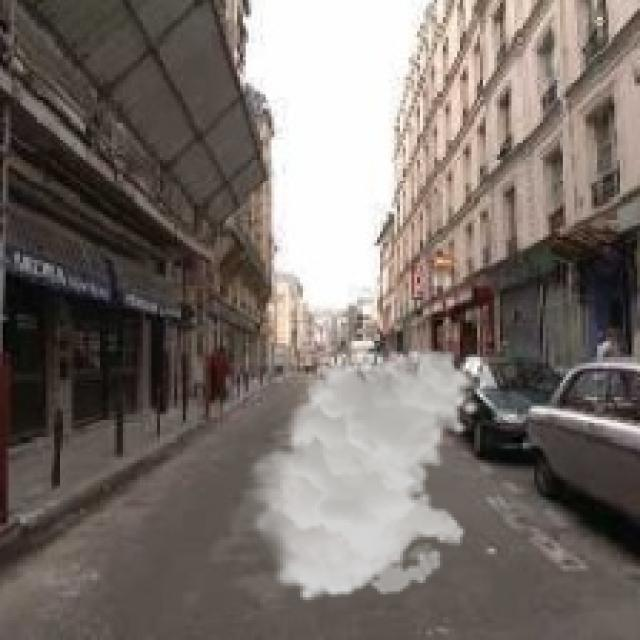Smoke: (243, 348, 480, 603)
